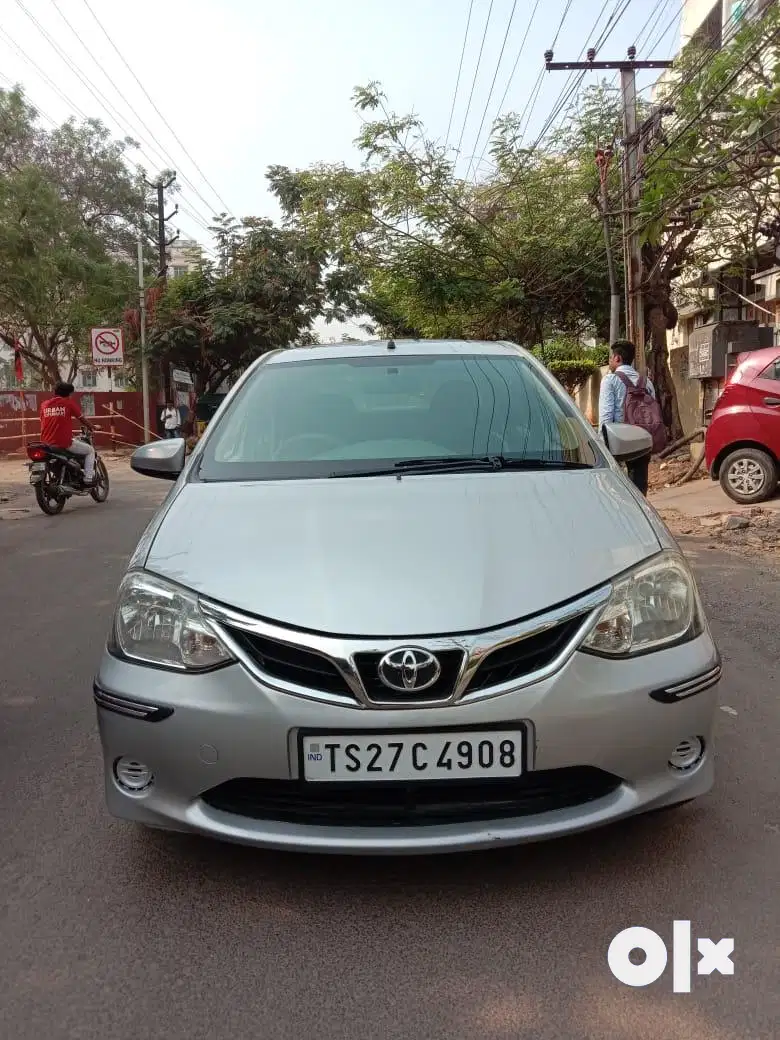car: (90, 346, 732, 903)
numberplate: (296, 737, 541, 786)
